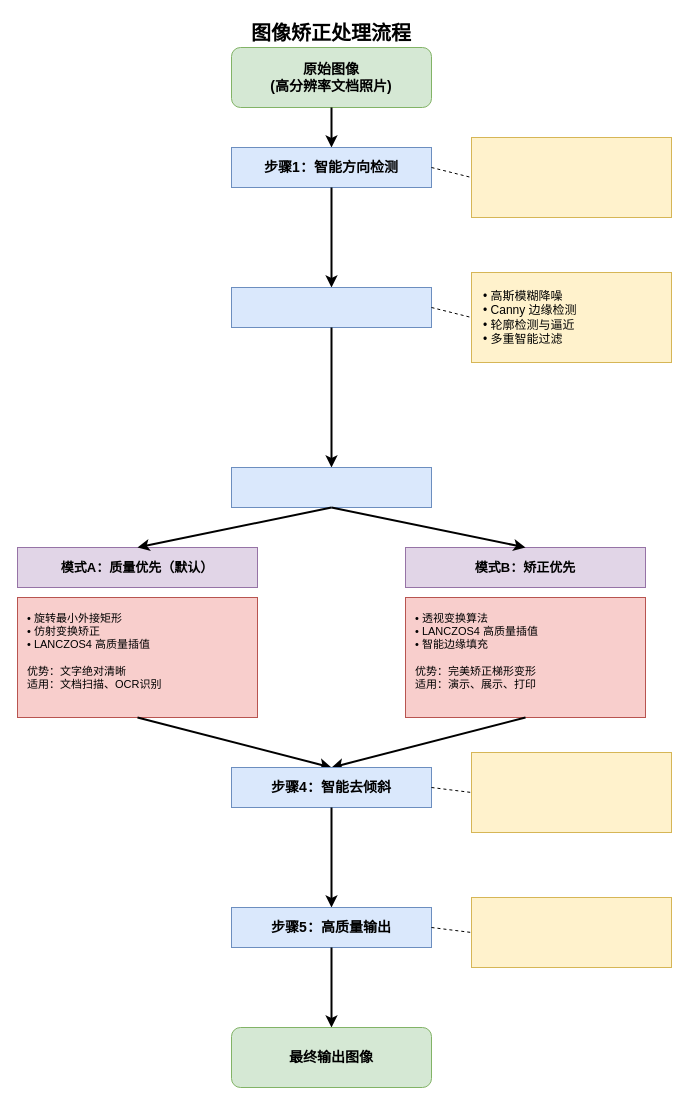
The diagram is 689 pixels wide and 1105 high, and some of its shapes have lost their labels. Each missing label, with the box of its shape:
• Hough 直线变换 • 仿射变换旋转 • 智能阈值控制: (470, 752, 672, 832)
• JPEG 高质量编码(95) • PNG 无损输出可选: (470, 896, 672, 968)
• 文字特征分析 • 自动旋转矫正 • 置信度阈值控制: (470, 136, 672, 218)
步骤2：精确边界检测: (230, 286, 432, 328)
步骤3：文档矫正: (230, 466, 432, 508)
